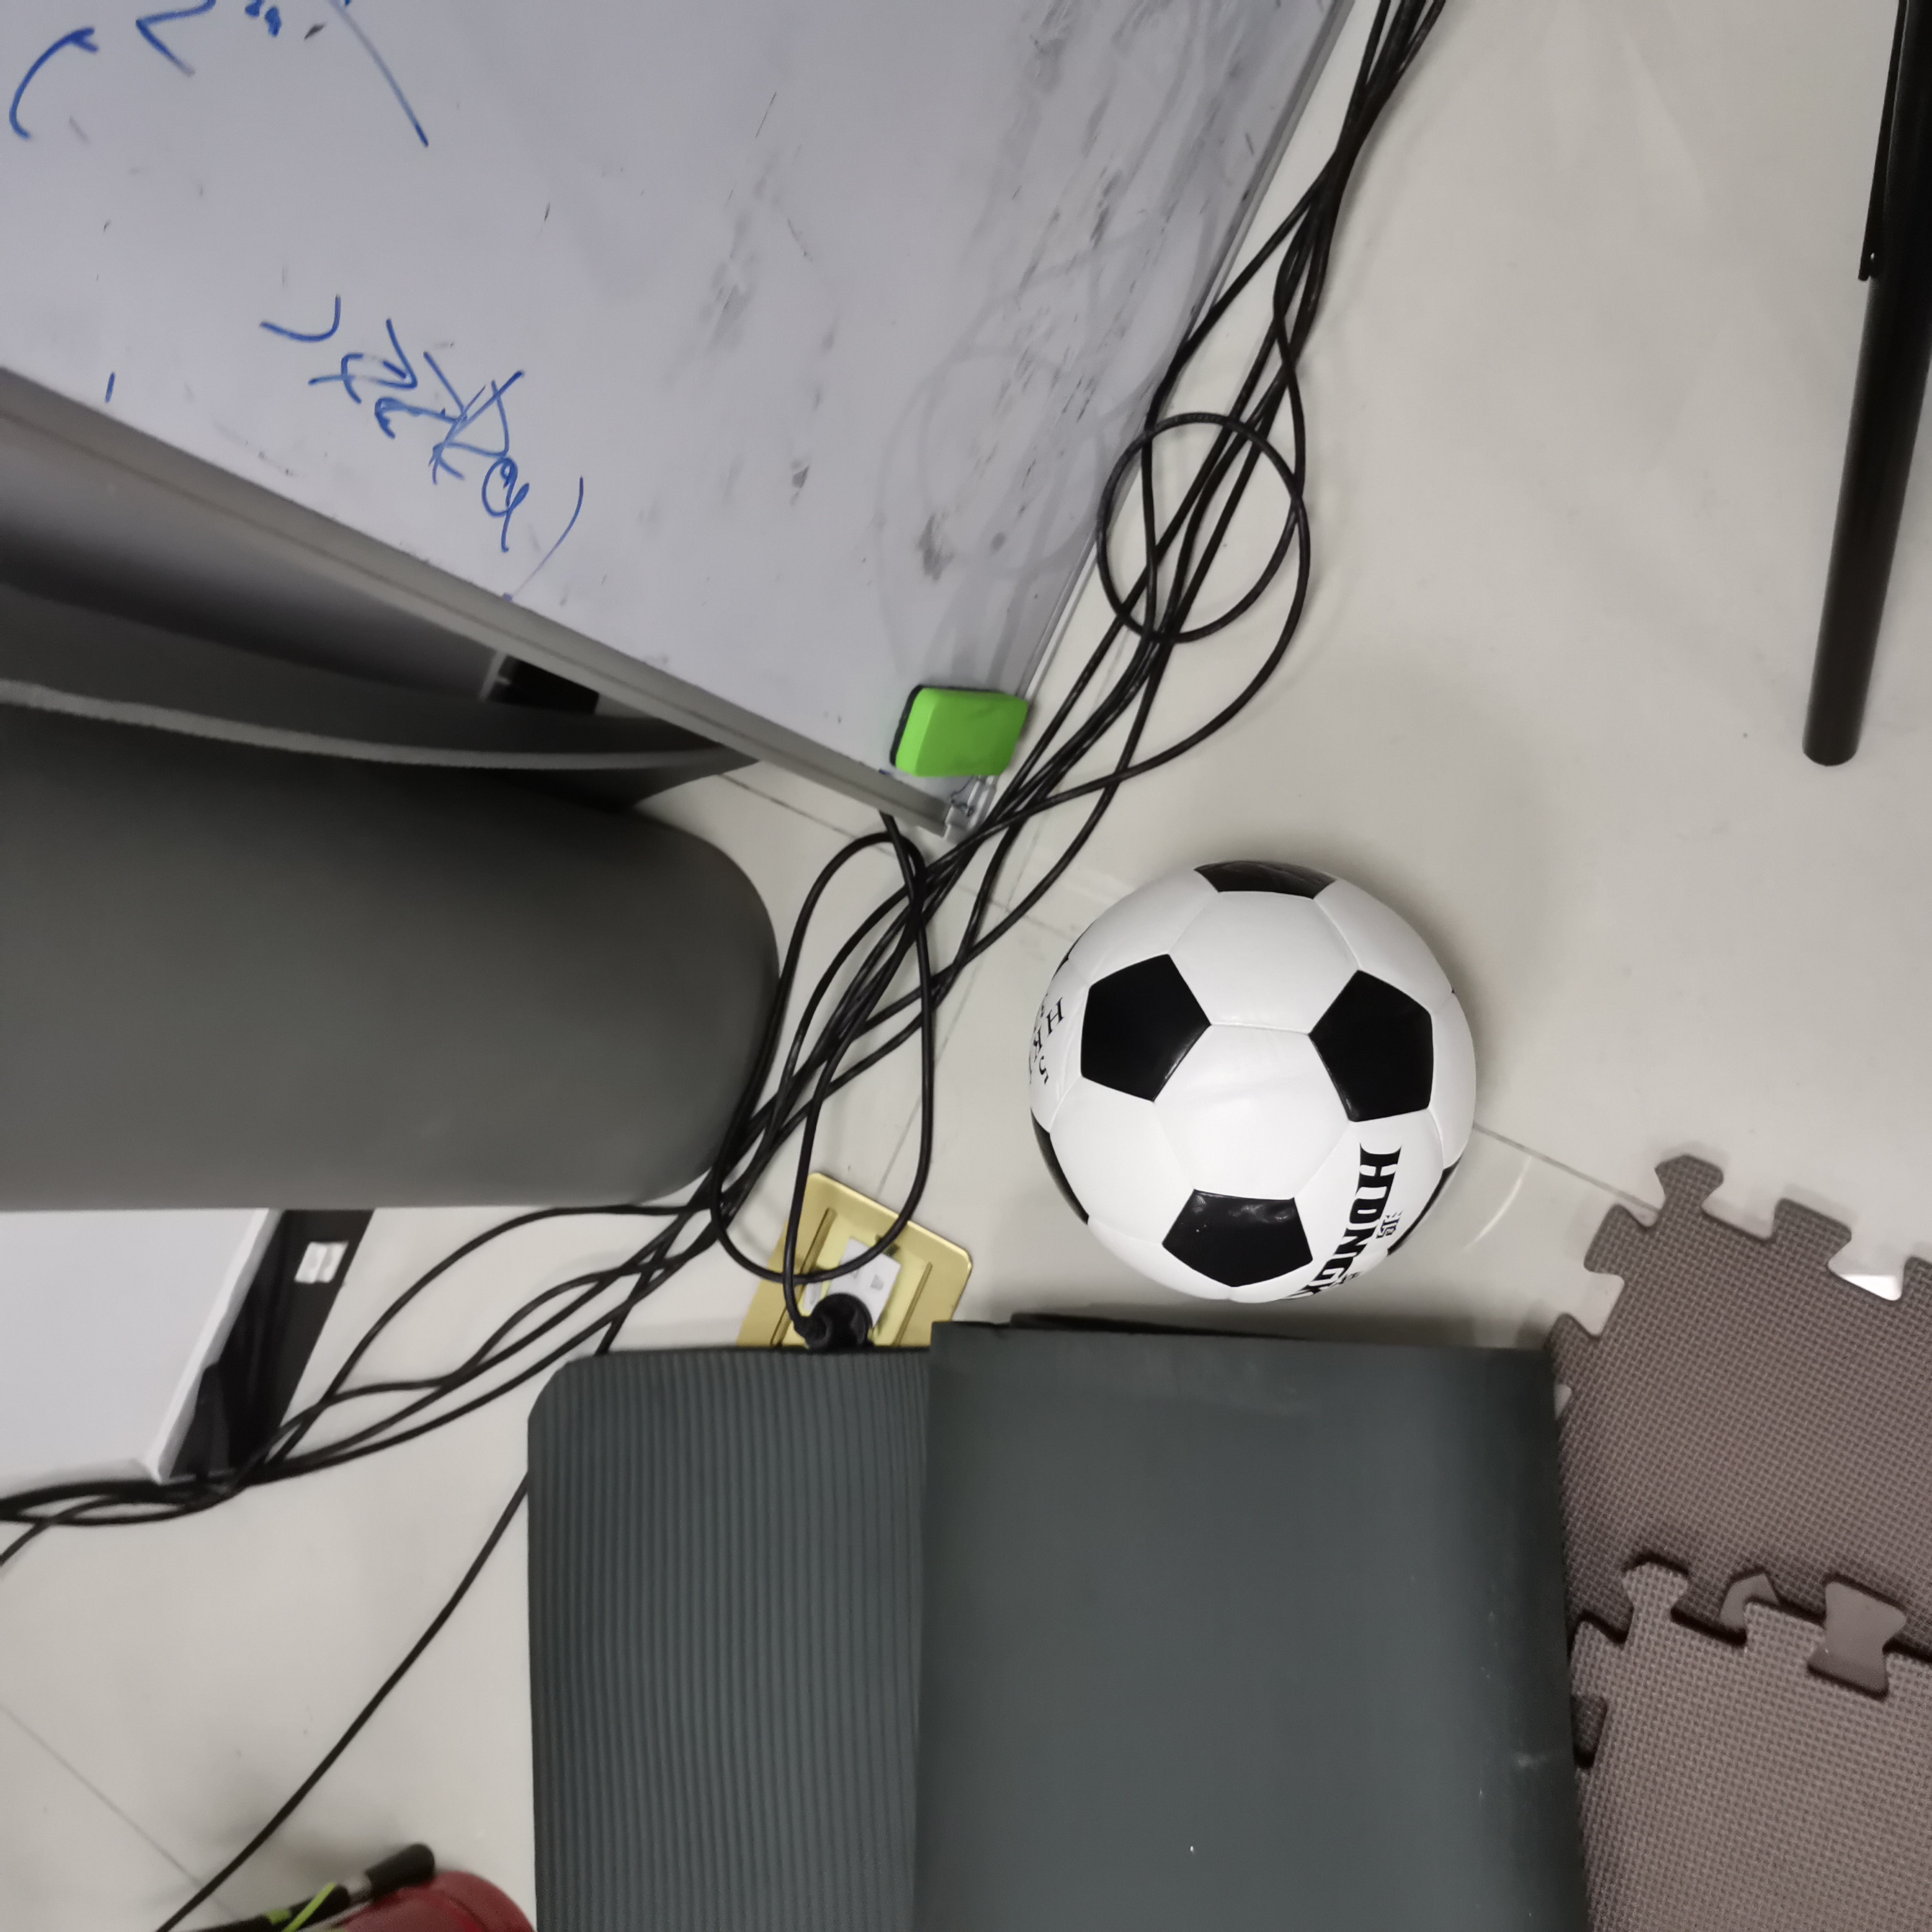football: (1031, 863, 1481, 1306)
